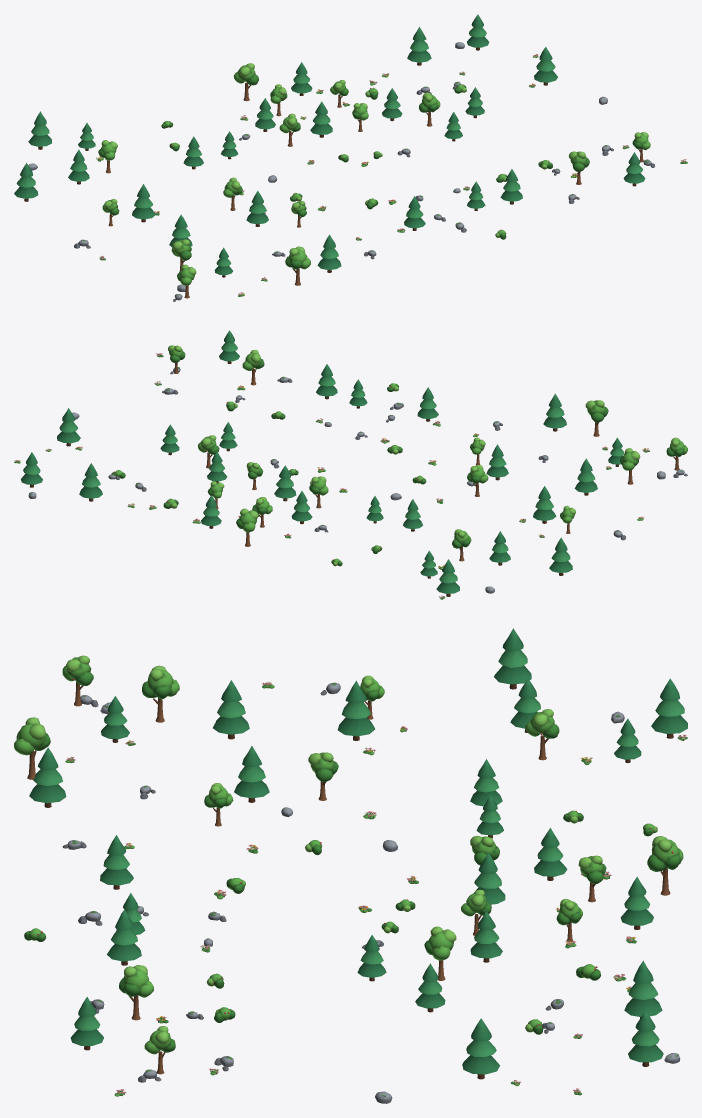
Rendered from level_01_decor.glb.
3 views of the same model, one above another, from view 1: azimuth 30°, elevation 25°; view 2: azimuth 150°, elevation 25°; view 3: azimuth 270°, elevation 25° (orthographic). The views are drawn at different scales.
Parts seen in each view (by area): view 1: Chunk_0_m1, Chunk_m1_m1, Chunk_m1_0, Chunk_0_0, Chunk_1_m1, Chunk_m2_0, Chunk_m2_m1, Chunk_1_0; view 2: Chunk_0_m1, Chunk_m1_m1, Chunk_m1_0, Chunk_0_0, Chunk_1_m1, Chunk_m2_0, Chunk_m2_m1, Chunk_1_0; view 3: Chunk_0_m1, Chunk_m1_0, Chunk_m1_m1, Chunk_0_0, Chunk_1_m1, Chunk_m2_0, Chunk_m2_m1, Chunk_1_0.
Boxes of the visible parts, x1=… form: Chunk_0_m1: x1=233, y1=27, x2=484, y2=166; Chunk_m1_m1: x1=28, y1=98, x2=314, y2=222; Chunk_m1_0: x1=169, y1=177, x2=425, y2=296; Chunk_0_0: x1=388, y1=151, x2=645, y2=239; Chunk_1_m1: x1=455, y1=14, x2=607, y2=104; Chunk_m2_0: x1=74, y1=239, x2=196, y2=301; Chunk_m2_m1: x1=14, y1=163, x2=119, y2=226; Chunk_1_0: x1=602, y1=132, x2=687, y2=167; Chunk_0_m1: x1=79, y1=422, x2=325, y2=546; Chunk_m1_m1: x1=284, y1=476, x2=556, y2=599; Chunk_m1_0: x1=387, y1=387, x2=649, y2=496; Chunk_0_0: x1=219, y1=330, x2=403, y2=443; Chunk_1_m1: x1=14, y1=408, x2=82, y2=498; Chunk_m2_0: x1=613, y1=437, x2=687, y2=540; Chunk_m2_m1: x1=485, y1=505, x2=575, y2=593; Chunk_1_0: x1=154, y1=345, x2=185, y2=394; Chunk_0_m1: x1=357, y1=836, x2=683, y2=1038; Chunk_m1_0: x1=14, y1=680, x2=338, y2=893; Chunk_m1_m1: x1=337, y1=678, x2=687, y2=883; Chunk_0_0: x1=24, y1=889, x2=235, y2=1050; Chunk_1_m1: x1=375, y1=1010, x2=680, y2=1103; Chunk_m2_0: x1=62, y1=655, x2=340, y2=722; Chunk_m2_m1: x1=360, y1=628, x2=624, y2=723; Chunk_1_0: x1=114, y1=1026, x2=233, y2=1096.
Size of what is drawn, in the model's own units: 25.23 by 1.88 by 17.1.
Materials: 1 (1 with a texture image).
